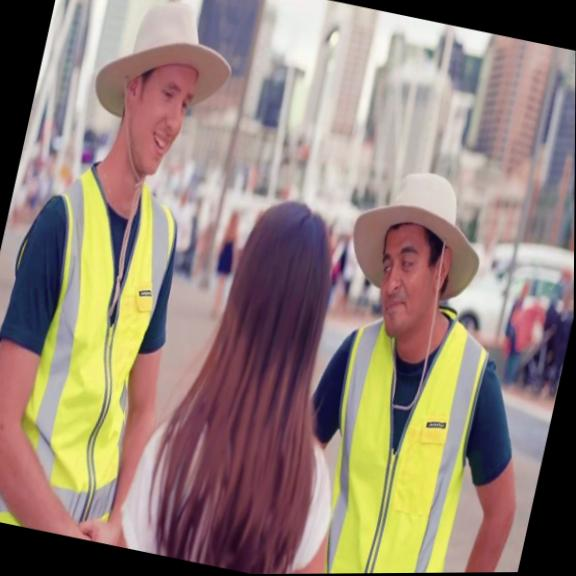safety_vest: (0, 150, 190, 545), (296, 286, 502, 574)
